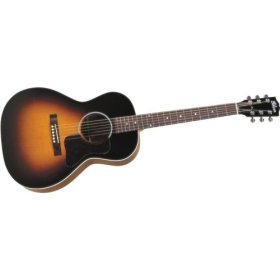guitar: (2, 87, 280, 194)
